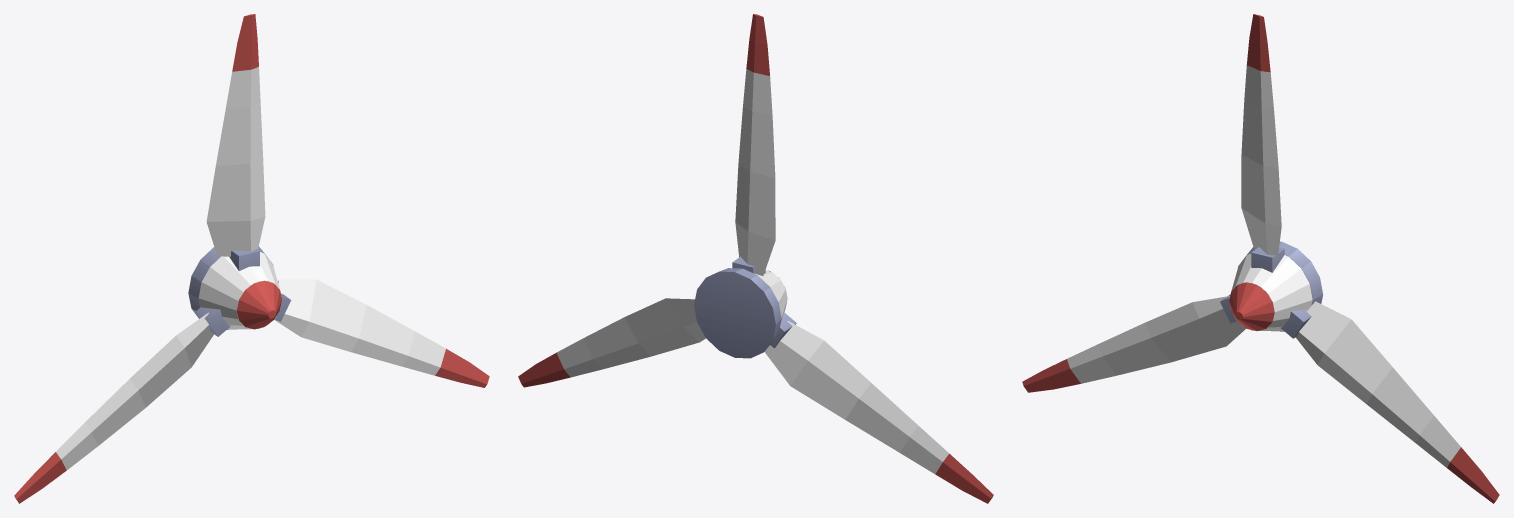
File: wind_hawt_rotor.glb
The picture shows the model from 3 angles, left to right: view 1: azimuth 30°, elevation 25°; view 2: azimuth 150°, elevation 25°; view 3: azimuth 330°, elevation 25°; orthographic projection.
Visible parts, largest first — view 1: Rotor; view 2: Rotor; view 3: Rotor.
Part boxes in pixels (x1,y1,x2,y2): Rotor: [14, 14, 489, 503]; Rotor: [518, 14, 993, 503]; Rotor: [1022, 14, 1499, 503].
Bounding box in the file's own units: 1.72 × 1.49 × 0.268.
Materials: 1 (1 with a texture image).
